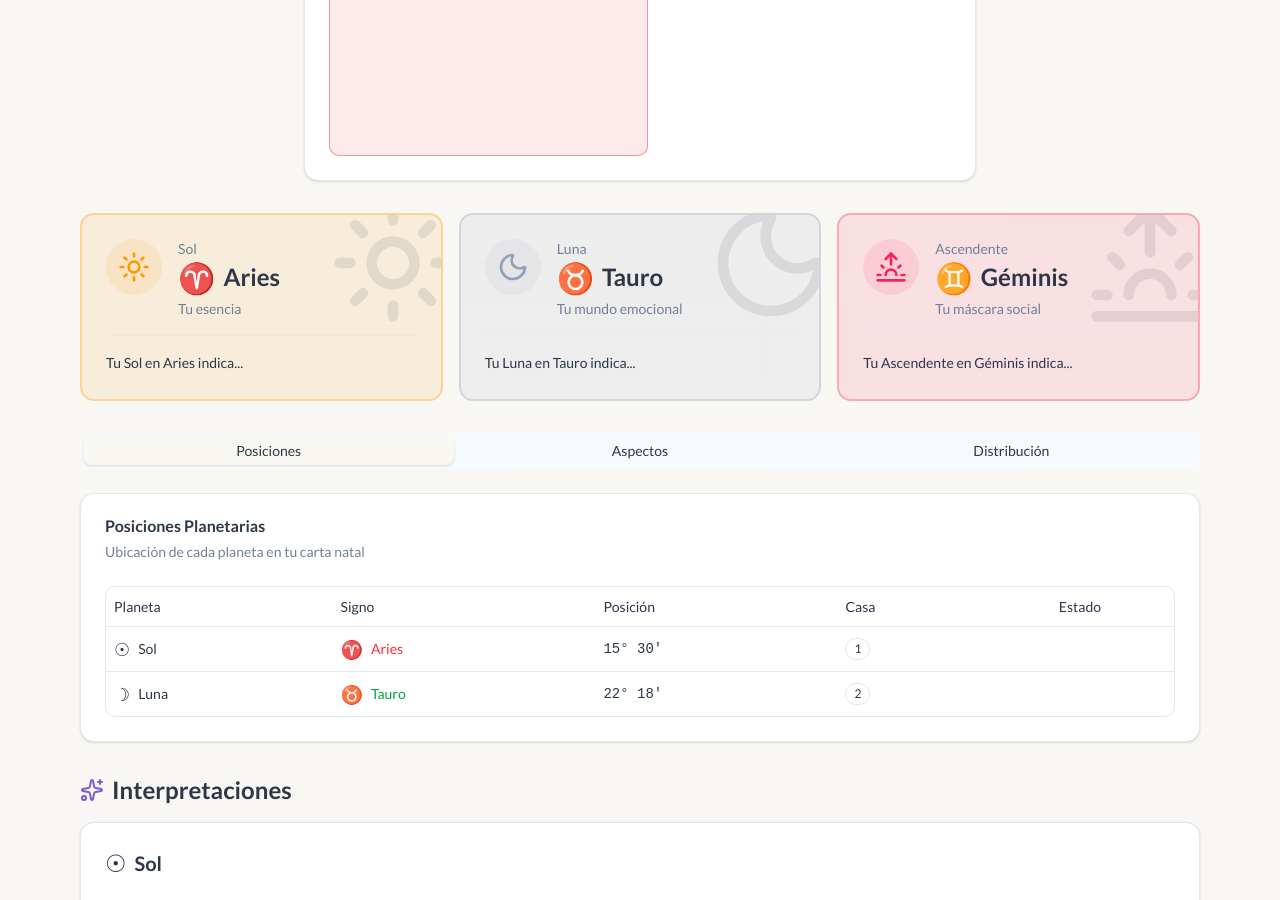
Scenario: SavedChartPage › Success state › should show element distribution when distribution tab is clicked
The width and height of the screenshot is (1280, 900).
(page scrolled)
Click the tab "Distribución" at {"x": 1011, "y": 451}, box x1=826 y1=436 x2=1197 y2=465
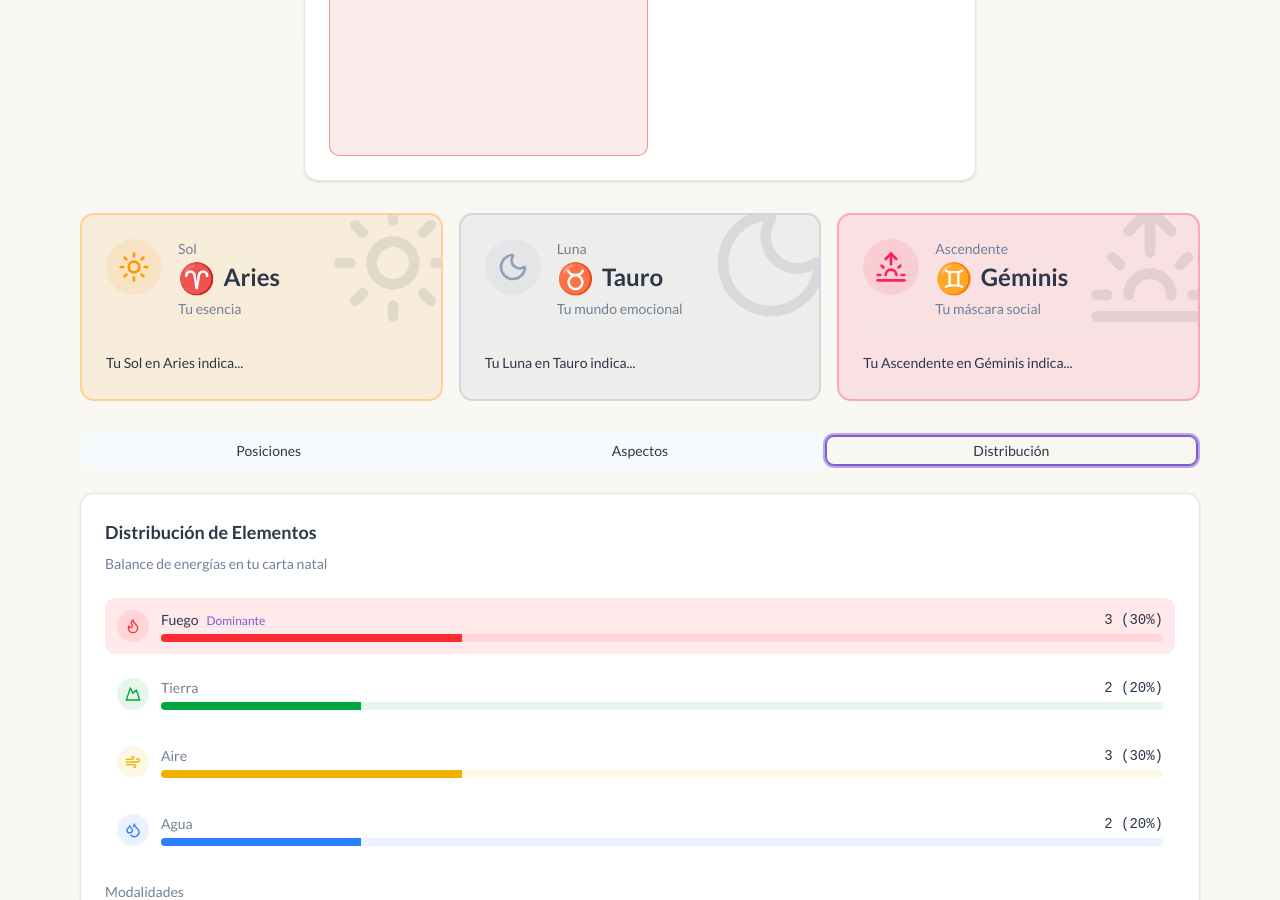
Check: the text "Fuego" is shown, box x1=161 y1=611 x2=199 y2=628
Check: the text "Tierra" is shown, box x1=161 y1=678 x2=198 y2=698
